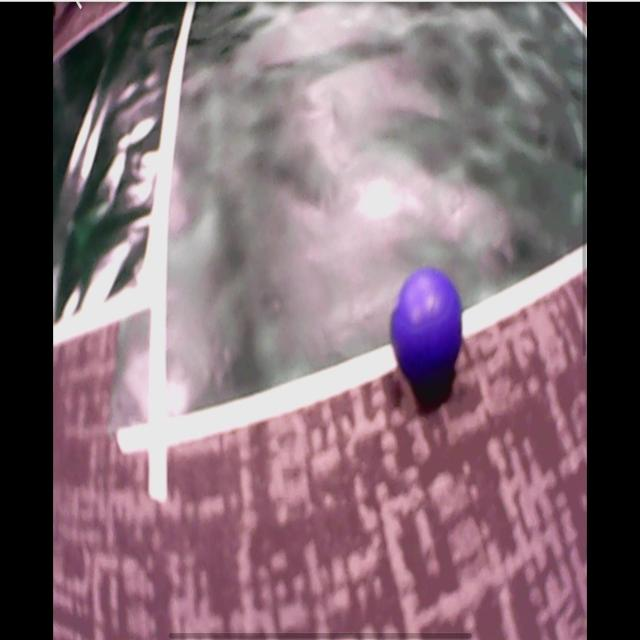ball: (391, 266, 464, 382)
